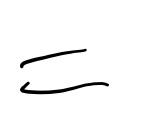eqv: (15, 46, 111, 95)
